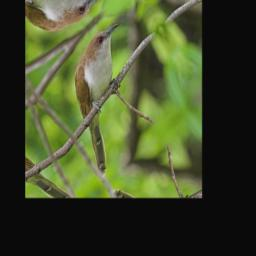Cuckoo: (45, 16, 173, 176)
